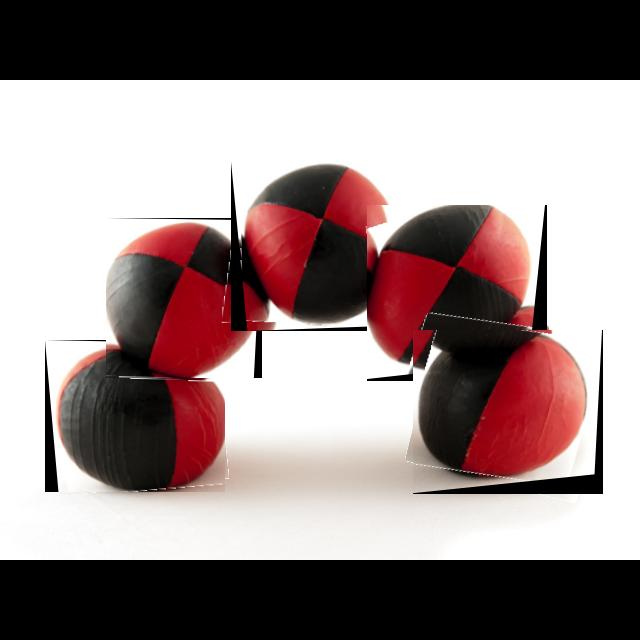Football: (367, 205, 547, 381), (413, 330, 603, 494), (231, 161, 399, 331), (45, 340, 225, 492), (106, 218, 262, 378)
